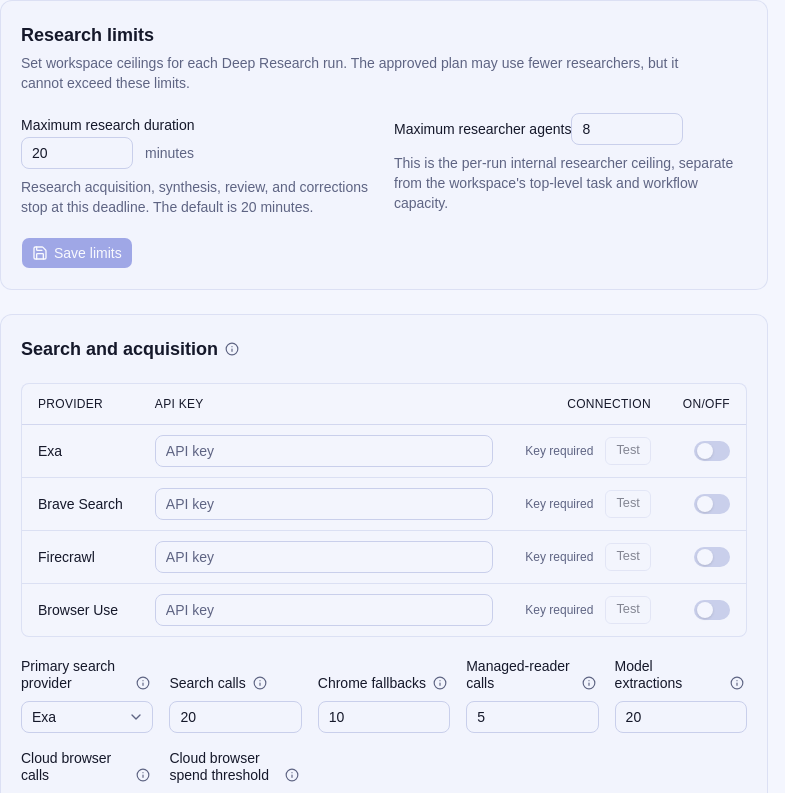
it: gives the primary slot to the only search provider that has a key
Expected: the dropdown named "Primary search provider" shows "Exa", [21,700,153,732]
Expected: the dropdown named "Primary search provider" is enabled, [21,700,153,732]
Type "brave-key" into the password field named "Brave Search API key" at (324, 504), box [155,488,493,520]
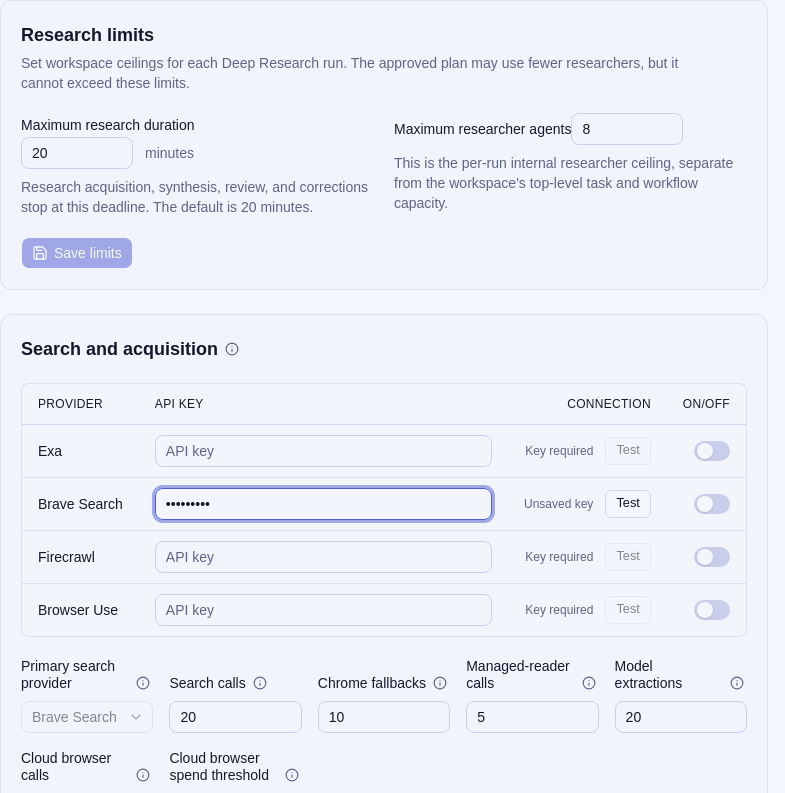
Expected: the dropdown named "Primary search provider" shows "Brave Search", [21,700,153,732]
Expected: the dropdown named "Primary search provider" is disabled, [21,700,153,732]
Press Tab
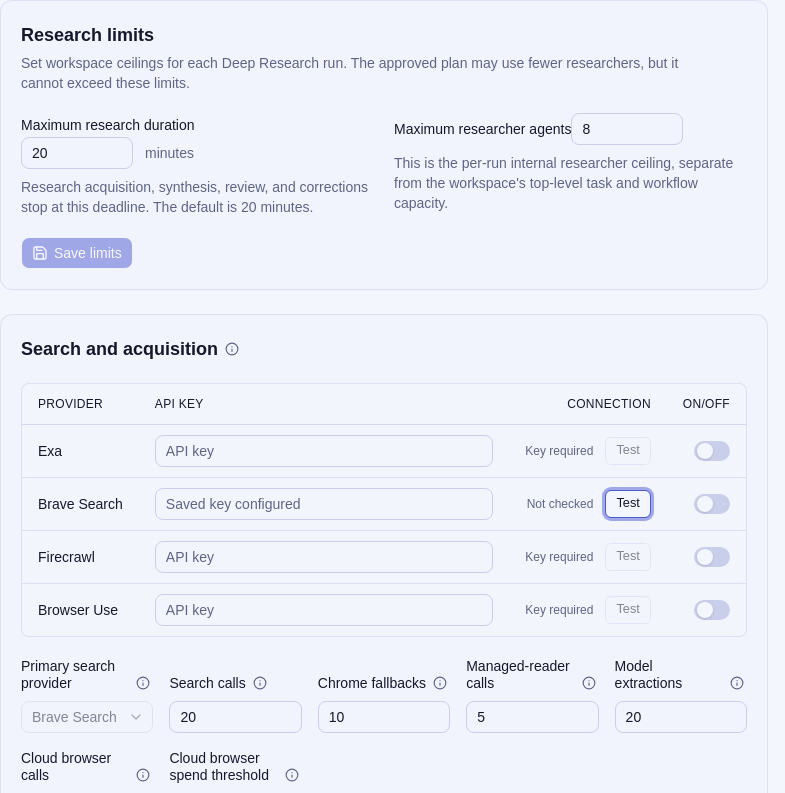
Expected: the dropdown named "Primary search provider" shows "Brave Search", [21,700,153,732]
Type "exa-key" into the password field named "Exa API key" at (324, 450), box [155,434,493,466]
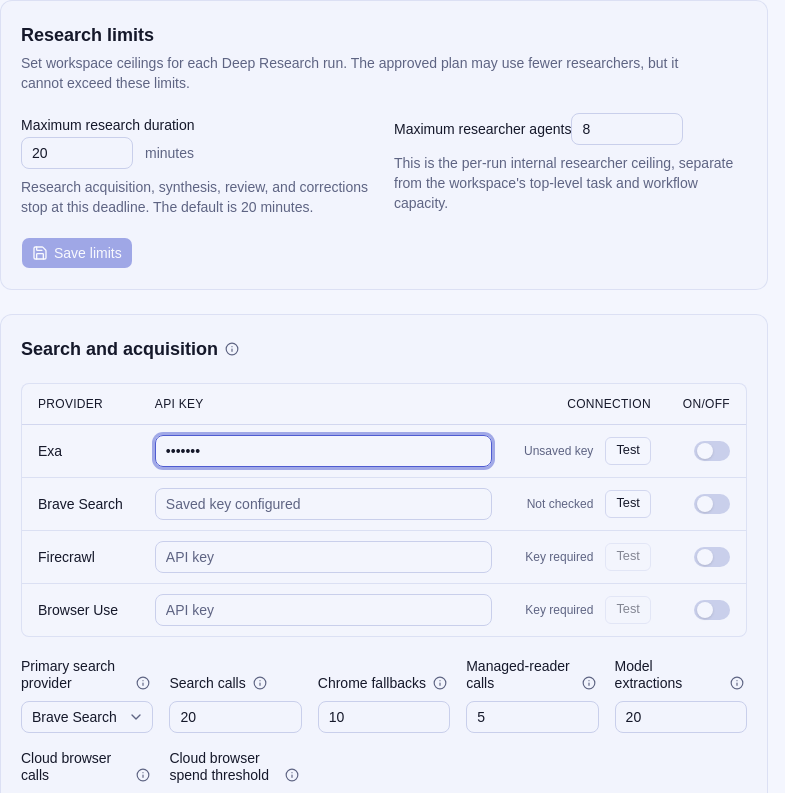
Expected: the dropdown named "Primary search provider" is enabled, [21,700,153,732]
